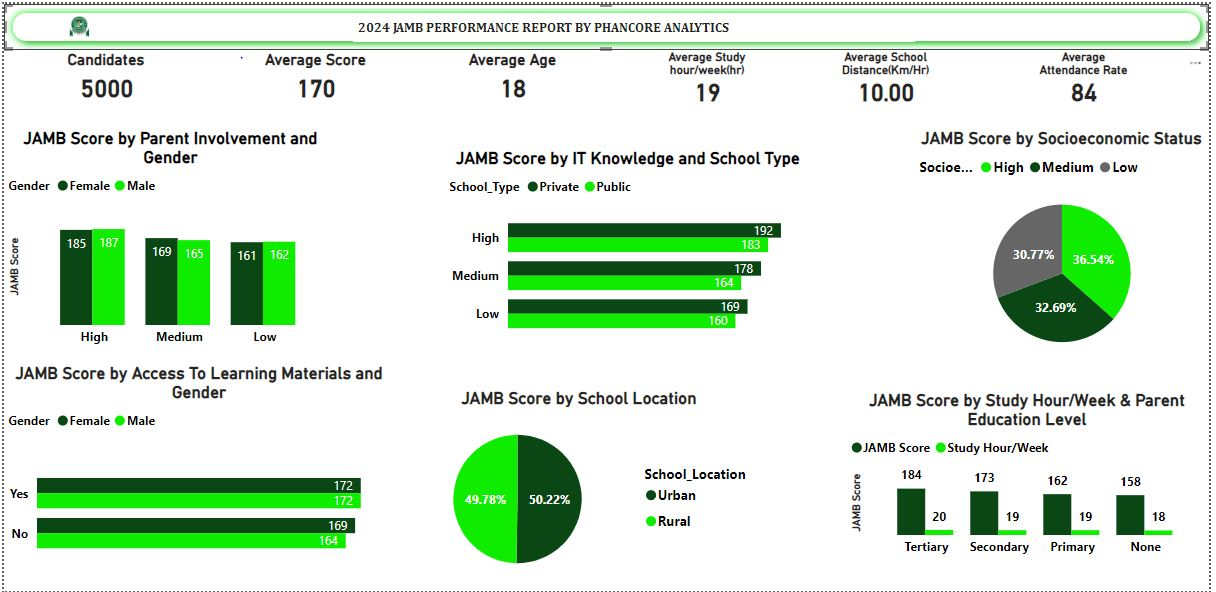

Layout of this report page (visuals, bound fields, positions):
{"tool":"powerbi","page":{"name":"DASHBOARD","canvas":[1205,587],"ordinal":6},"visuals":[{"type":"clusteredColumnChart","title":"JAMB Score by Parent Involvement and Gender","fields":{"Category":["jamb_exam_results.Parent_Involvement"],"Y":["Median(jamb_exam_results.JAMB_Score)"],"Series":["jamb_exam_results.Gender"]},"box":[0,123.7,334,226.8],"z":0},{"type":"pieChart","title":"JAMB Score by School Location","fields":{"Category":["jamb_exam_results.School_Location"],"Y":["Median(jamb_exam_results.JAMB_Score)"]},"box":[1891.2,305.9,829.4,576.5],"z":1000},{"type":"clusteredBarChart","title":"JAMB Score by IT Knowledge and School Type","fields":{"Category":["jamb_exam_results.IT_Knowledge"],"Y":["Median(jamb_exam_results.JAMB_Score)"],"Series":["jamb_exam_results.School_Type"]},"box":[26.5,929.4,855.9,552.9],"z":2000},{"type":"clusteredBarChart","title":"JAMB Score by Access To Learning Materials and Gender","fields":{"Category":["jamb_exam_results.Access_To_Learning_Materials"],"Y":["Median(jamb_exam_results.JAMB_Score)"],"Series":["jamb_exam_results.Gender"]},"box":[0,358.8,390.7,227.8],"z":3000},{"type":"pieChart","title":"JAMB Score by Socioeconomic Status","fields":{"Category":["jamb_exam_results.Socioeconomic_Status"],"Y":["Median(jamb_exam_results.JAMB_Score)"]},"box":[882.4,911.8,902.9,591.2],"z":4000},{"type":"clusteredColumnChart","title":"JAMB Score by Study Hours_Per_Week & Parent Education Level","fields":{"Category":["jamb_exam_results.Parent_Education_Level"],"Y":["Median(jamb_exam_results.JAMB_Score)","Median(jamb_exam_results.Study_Hours_Per_Week)"]},"box":[1808.8,973.5,991.2,461.8],"z":5000},{"type":"pieChart","title":"JAMB Score by School Location","fields":{"Category":["jamb_exam_results.School_Location"],"Y":["Median(jamb_exam_results.JAMB_Score)"]},"box":[381.4,383.5,388.7,203.1],"z":6000},{"type":"clusteredBarChart","title":"JAMB Score by IT Knowledge and School Type","fields":{"Category":["jamb_exam_results.IT_Knowledge"],"Y":["Median(jamb_exam_results.JAMB_Score)"],"Series":["jamb_exam_results.School_Type"]},"box":[441.2,144.3,367,202.1],"z":7000},{"type":"pieChart","title":"JAMB Score by Socioeconomic Status","fields":{"Category":["jamb_exam_results.Socioeconomic_Status"],"Y":["Median(jamb_exam_results.JAMB_Score)"]},"box":[911.3,123.7,293.8,243.3],"z":8000},{"type":"clusteredColumnChart","title":"JAMB Score by Study Hour/Week & Parent Education Level","fields":{"Category":["jamb_exam_results.Parent_Education_Level"],"Y":["Median(jamb_exam_results.JAMB_Score)","Median(jamb_exam_results.Study_Hours_Per_Week)"]},"box":[842.3,385.6,362.9,175.3],"z":9000},{"type":"card","title":"Candidates","fields":{"Values":["CountNonNull(jamb_exam_results.Student_ID)"]},"box":[46.4,46.4,112.4,57.7],"z":10000},{"type":"card","title":"Average Score","fields":{"Values":["Median(jamb_exam_results.JAMB_Score)"]},"box":[255.7,46.4,112.4,57.7],"z":11000},{"type":"card","title":"Average Age","fields":{"Values":["Median(jamb_exam_results.Age)"]},"box":[452.6,46.4,112.4,57.7],"z":12000},{"type":"card","title":"Average Study hour/week(hr)","fields":{"Values":["Median(jamb_exam_results.Study_Hours_Per_Week)"]},"box":[647.4,46.4,112.4,57.7],"z":13000},{"type":"card","title":"Average School Distance(Km/Hr)","fields":{"Values":["Median(jamb_exam_results.Distance_To_School)"]},"box":[825.8,46.4,112.4,57.7],"z":14000},{"type":"card","title":"Average Attendance Rate","fields":{"Values":["Median(jamb_exam_results.Attendance_Rate)"]},"box":[1023.7,46.4,112.4,57.7],"z":15000},{"type":"shape","box":[0,0,1205.2,46.4],"z":16000},{"type":"image","box":[36.1,6.2,79.4,34],"z":17000},{"type":"textbox","box":[349.5,9.3,561.9,28.9],"z":18000}]}

Visuals, with their boxes in screenshot pixels (x1, y1, x2, y2), scaled from the page's 1205x587 canvas onto the 1216x592 screenshot:
"JAMB Score by Parent Involvement and Gender" clusteredColumnChart: crop(0, 125, 337, 353)
"JAMB Score by Access To Learning Materials and Gender" clusteredBarChart: crop(0, 362, 394, 591)
"JAMB Score by School Location" pieChart: crop(385, 387, 777, 591)
"JAMB Score by IT Knowledge and School Type" clusteredBarChart: crop(445, 146, 816, 349)
"JAMB Score by Socioeconomic Status" pieChart: crop(920, 125, 1215, 370)
"JAMB Score by Study Hour/Week & Parent Education Level" clusteredColumnChart: crop(850, 389, 1215, 566)
"Candidates" card: crop(47, 47, 160, 105)
"Average Score" card: crop(258, 47, 371, 105)
"Average Age" card: crop(457, 47, 570, 105)
"Average Study hour/week(hr)" card: crop(653, 47, 767, 105)
"Average School Distance(Km/Hr)" card: crop(833, 47, 947, 105)
"Average Attendance Rate" card: crop(1033, 47, 1146, 105)
shape: crop(0, 0, 1215, 47)
image: crop(36, 6, 117, 41)
textbox: crop(353, 9, 920, 39)
